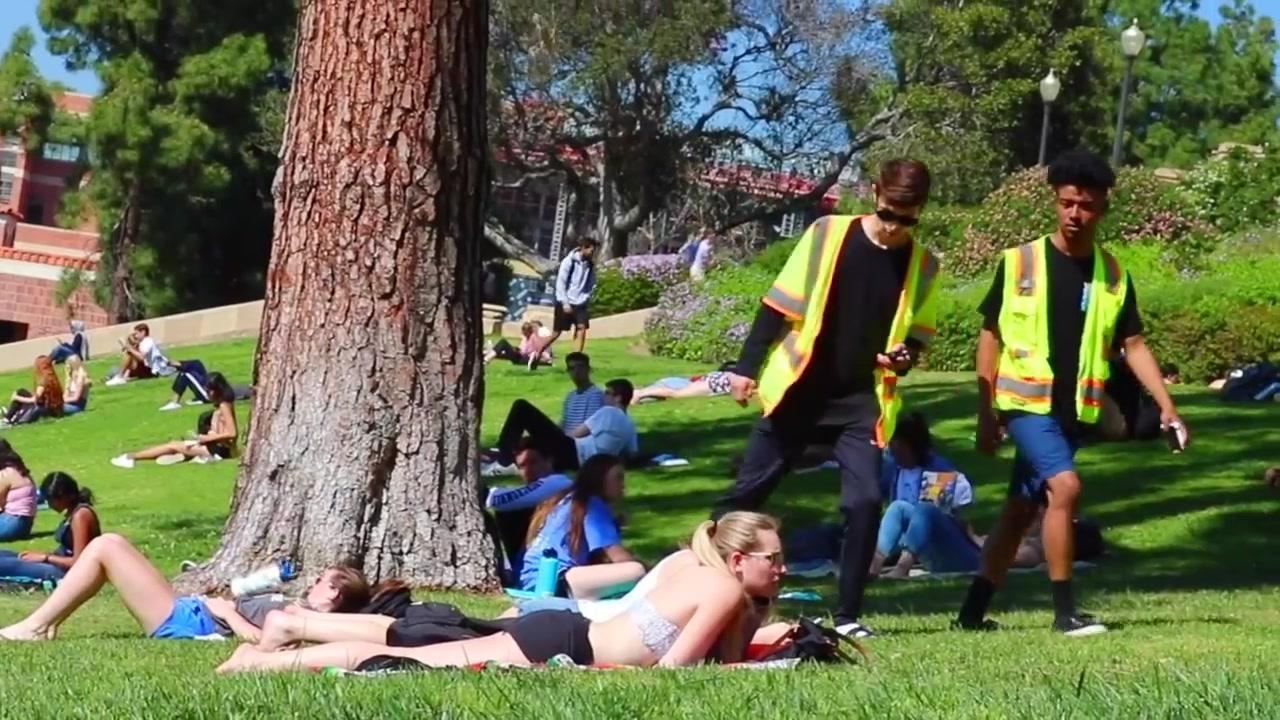vest: (750, 215, 939, 447), (995, 234, 1128, 425)
